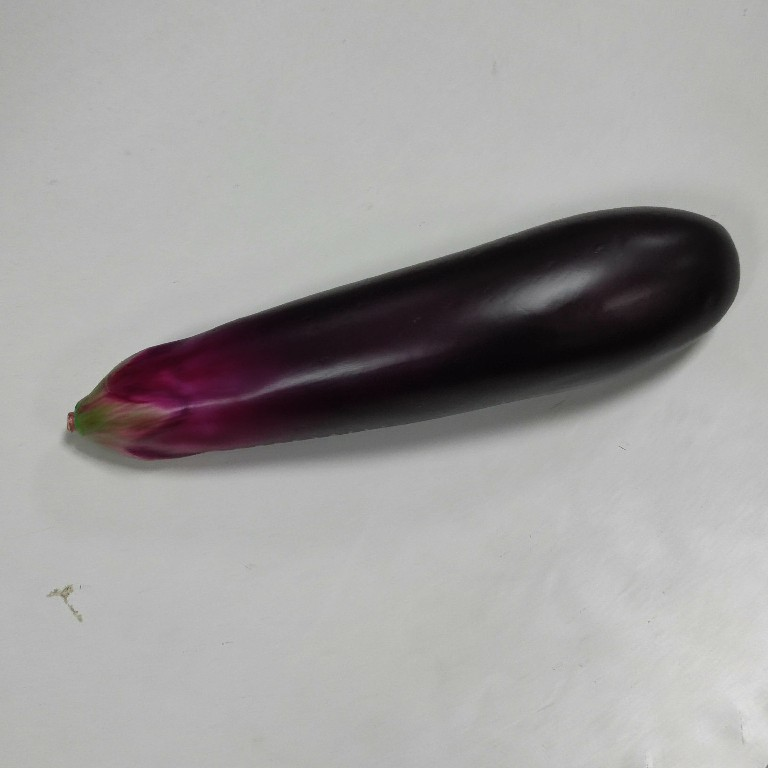fruit_eggplant: (65, 201, 743, 467)
